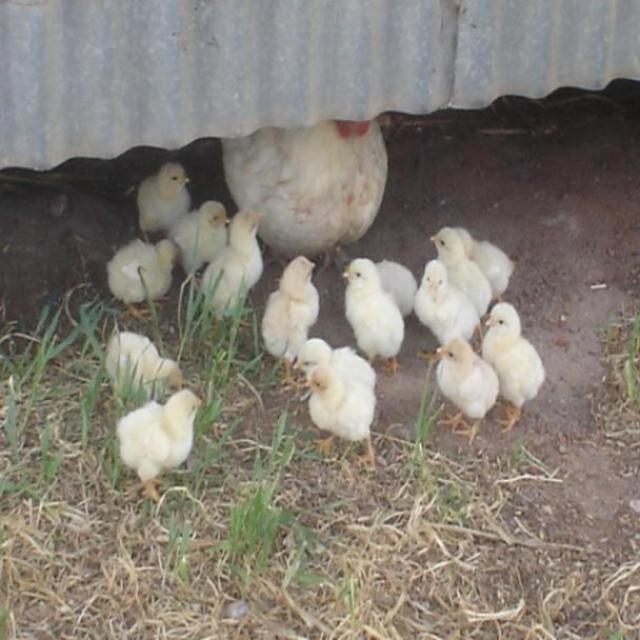Chicken: (210, 112, 395, 273), (100, 384, 204, 499)
